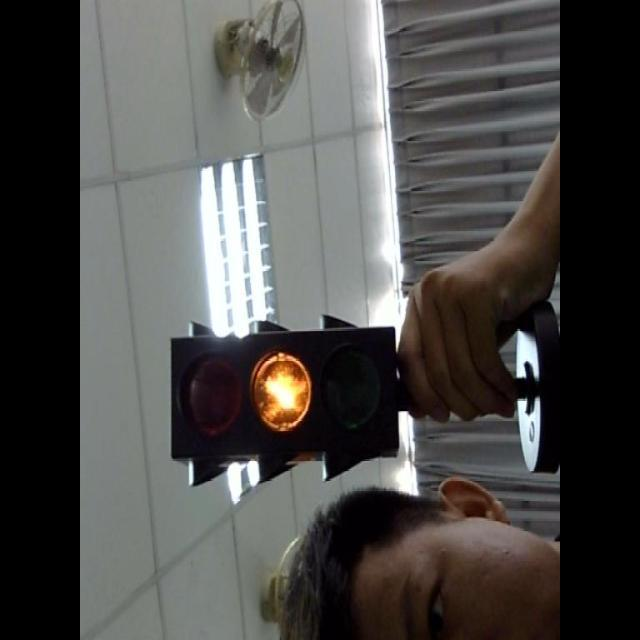yellow_light: (169, 326, 397, 458)
